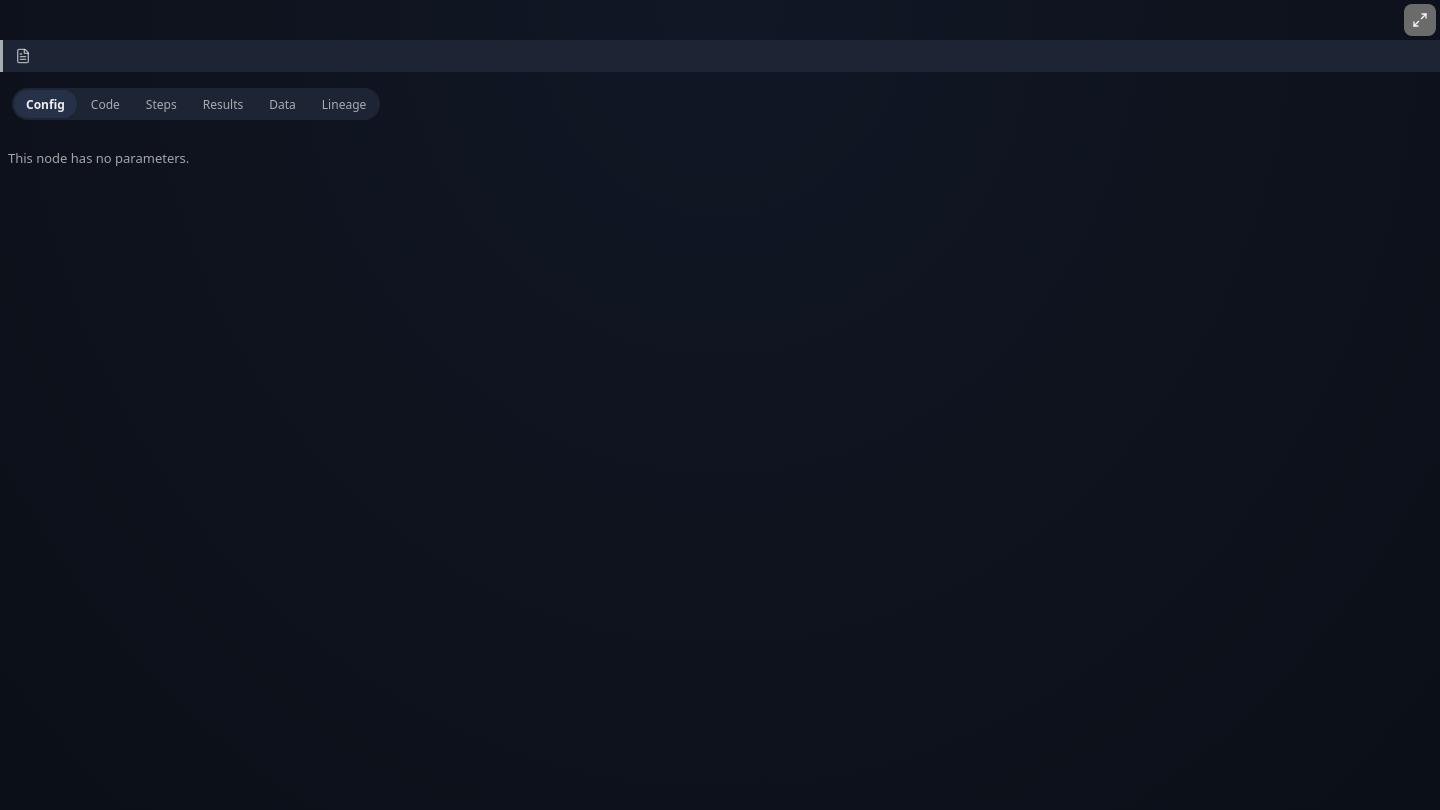
Scenario: Expand button opens the inspector in a modal overlay
Click the button with test id "inspector-expand-btn": (1420, 20) [1404,4,1436,36]
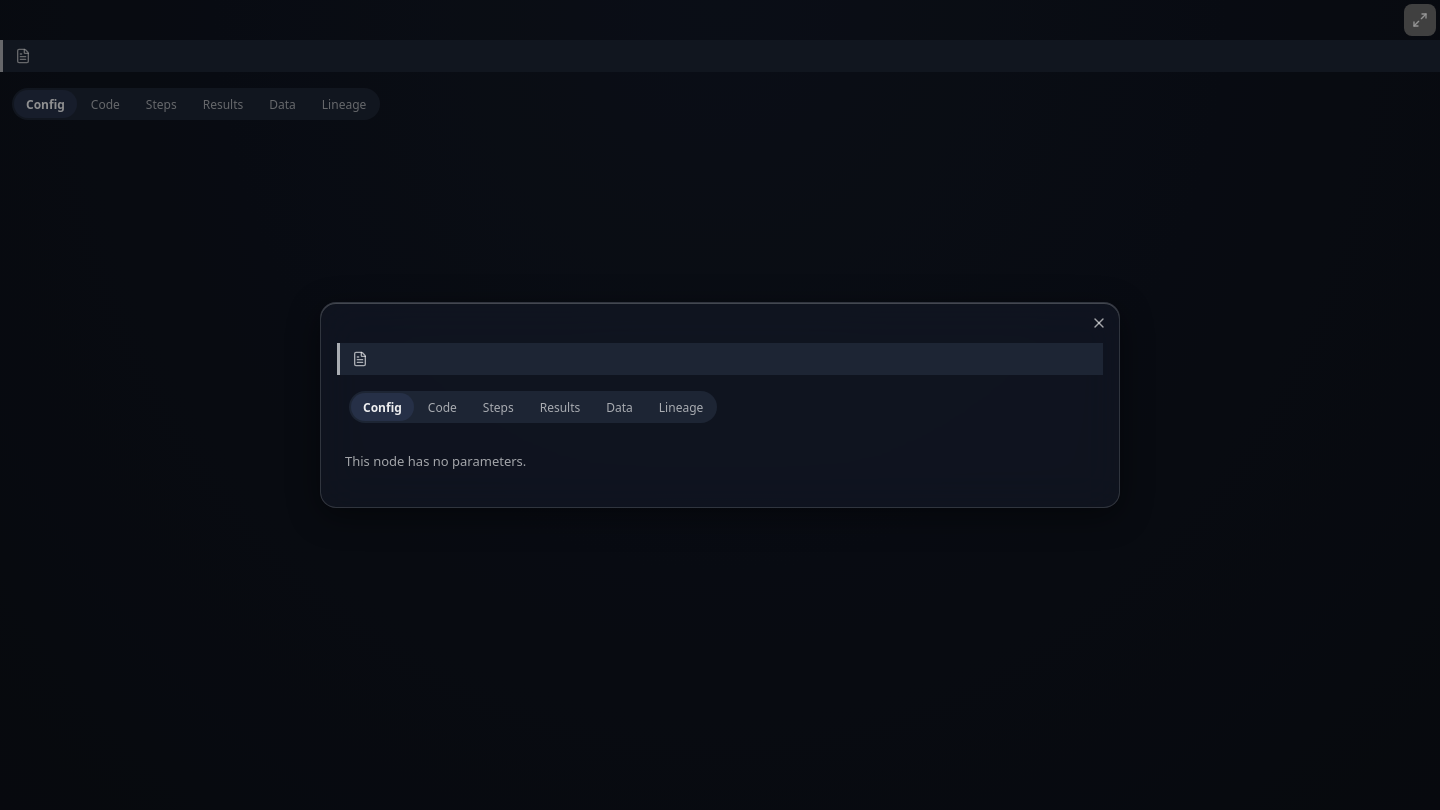
Result: the button with test id "overlay-modal-close" is shown at [1087,311,1111,335]
Result: the number of buttons with test id "inspector-tab-config" is 2 at [14,90,77,118]; [351,393,414,421]
